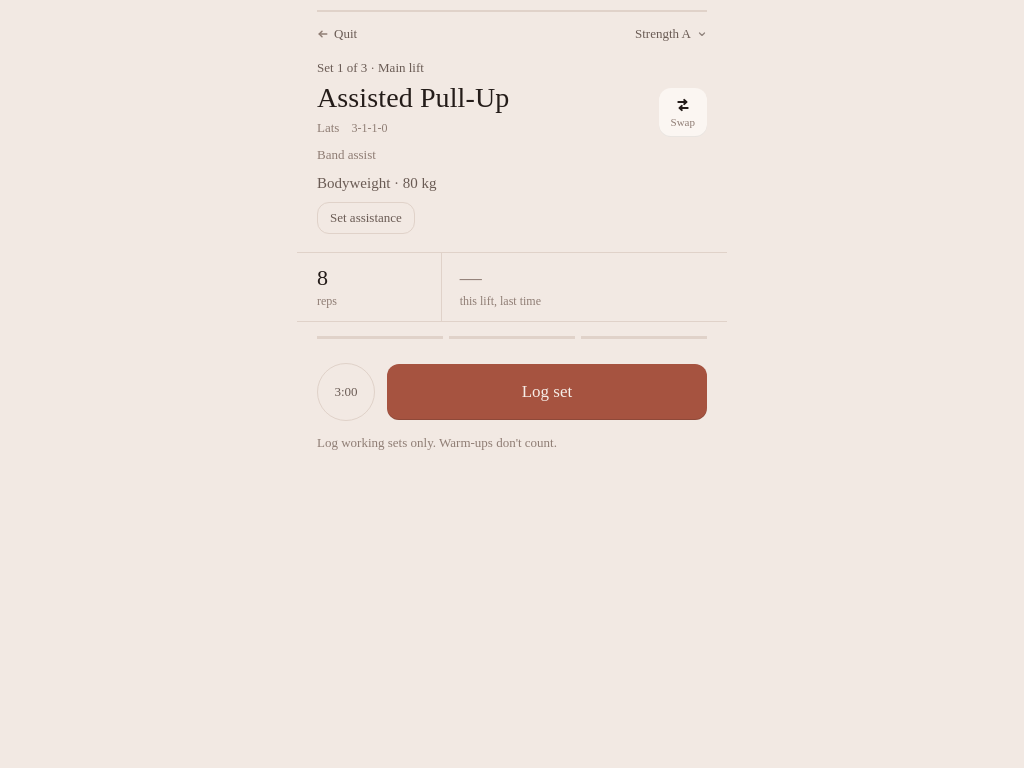
Test: loaded bodyweight lifts present added weight as optional, stored in W › an assisted lift keeps its assistance drum
The width and height of the screenshot is (1024, 768).
Click the button "Set assistance": (366, 218) [317,202,415,234]
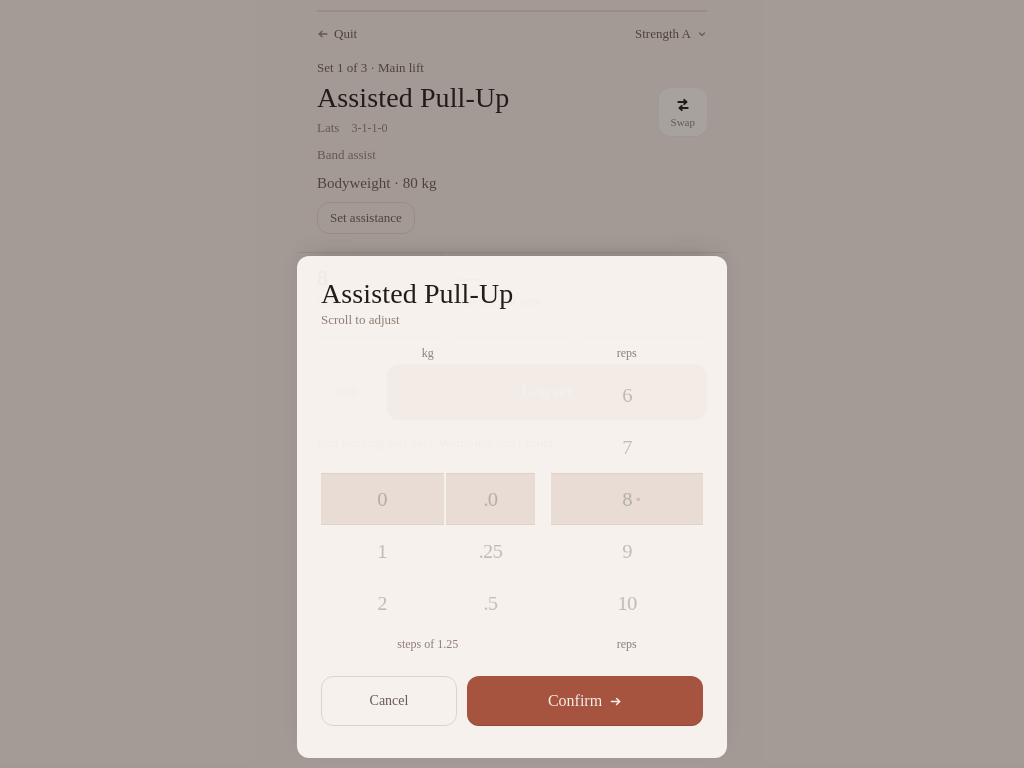
Result: the dialog is shown at [297,256,727,758]
Result: the text "steps of 1.25" is shown at [397,637,458,652]
